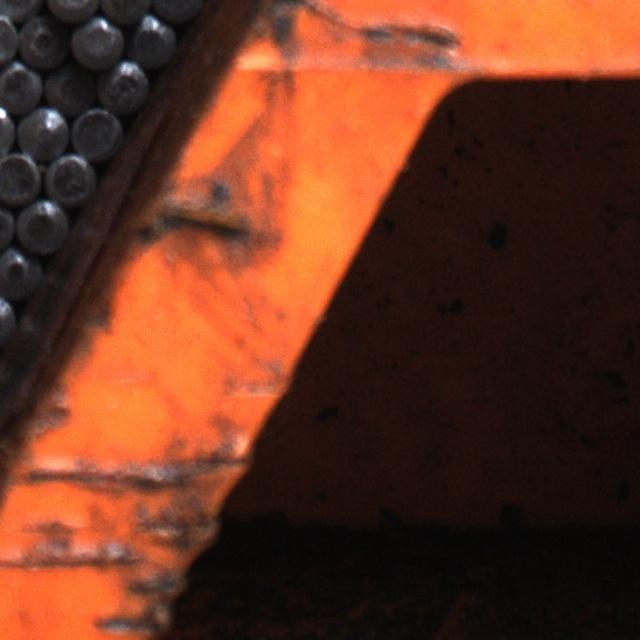tool: (15, 198, 71, 254), (98, 58, 150, 114), (69, 14, 122, 67), (16, 102, 68, 155), (71, 105, 122, 159), (127, 13, 178, 67), (16, 13, 68, 65), (44, 151, 97, 202), (42, 62, 94, 113), (0, 60, 42, 112), (0, 150, 39, 205), (0, 246, 41, 296)
